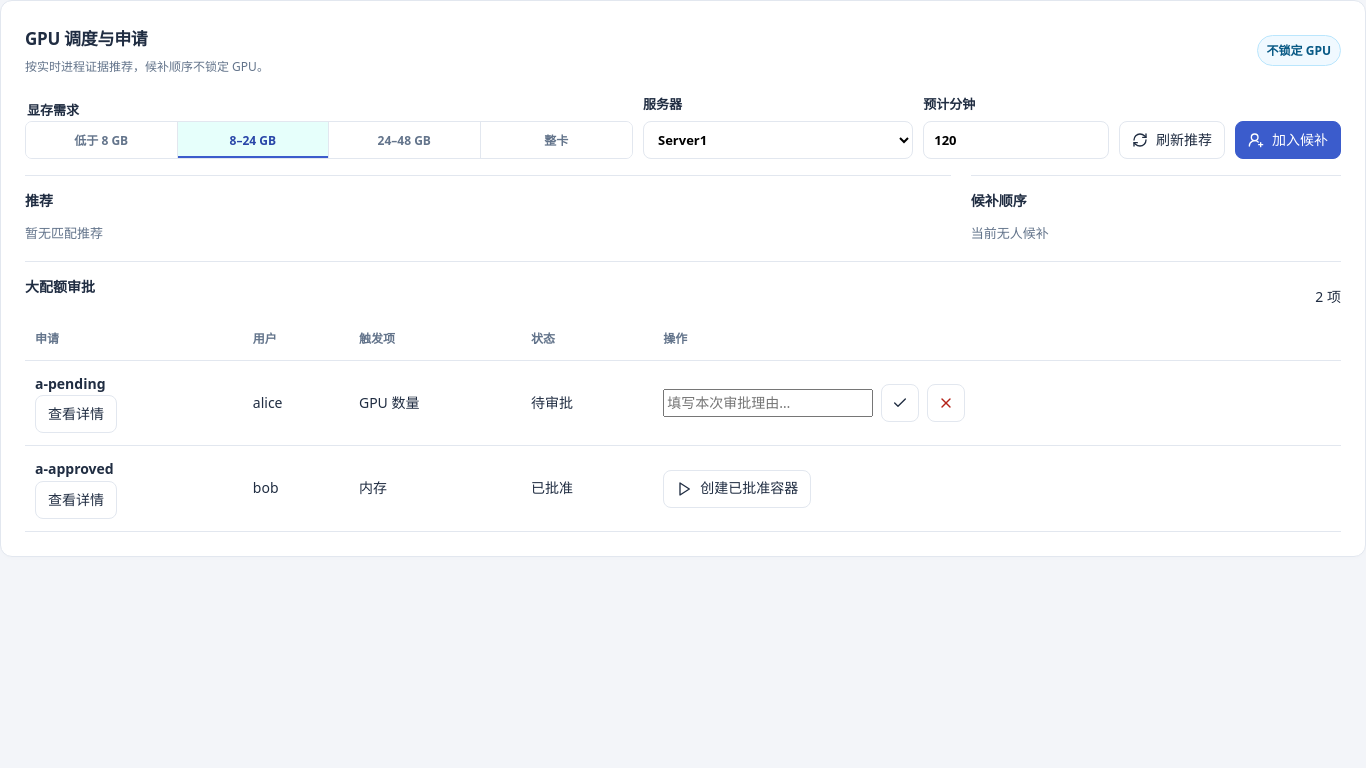
Test: admin can decide and execute approvals using only the approval id
The width and height of the screenshot is (1366, 768).
Type "资源充足" into the field named "审批理由 a-pending" at {"x": 768, "y": 403}, box [663,389,873,417]
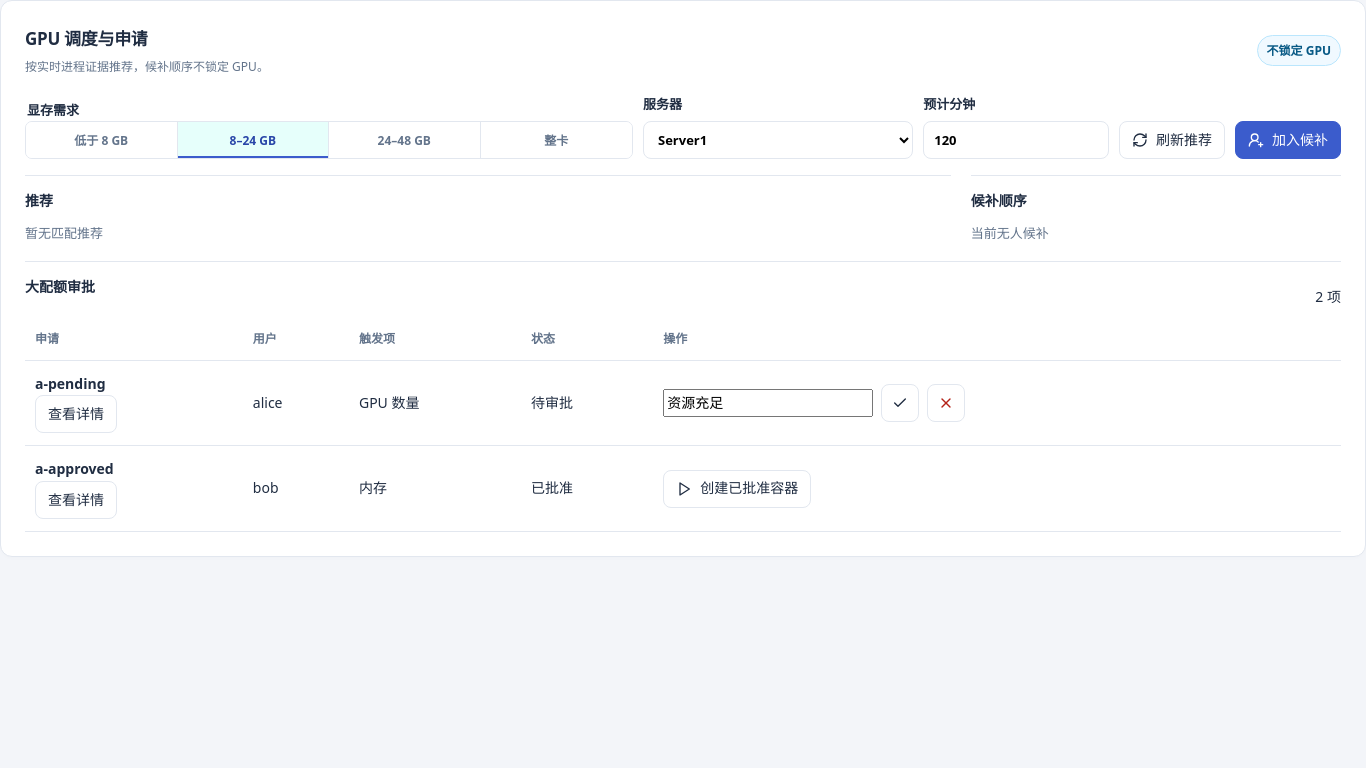
Click the button named "批准申请 a-pending" at {"x": 900, "y": 403}, box [881,384,919,422]
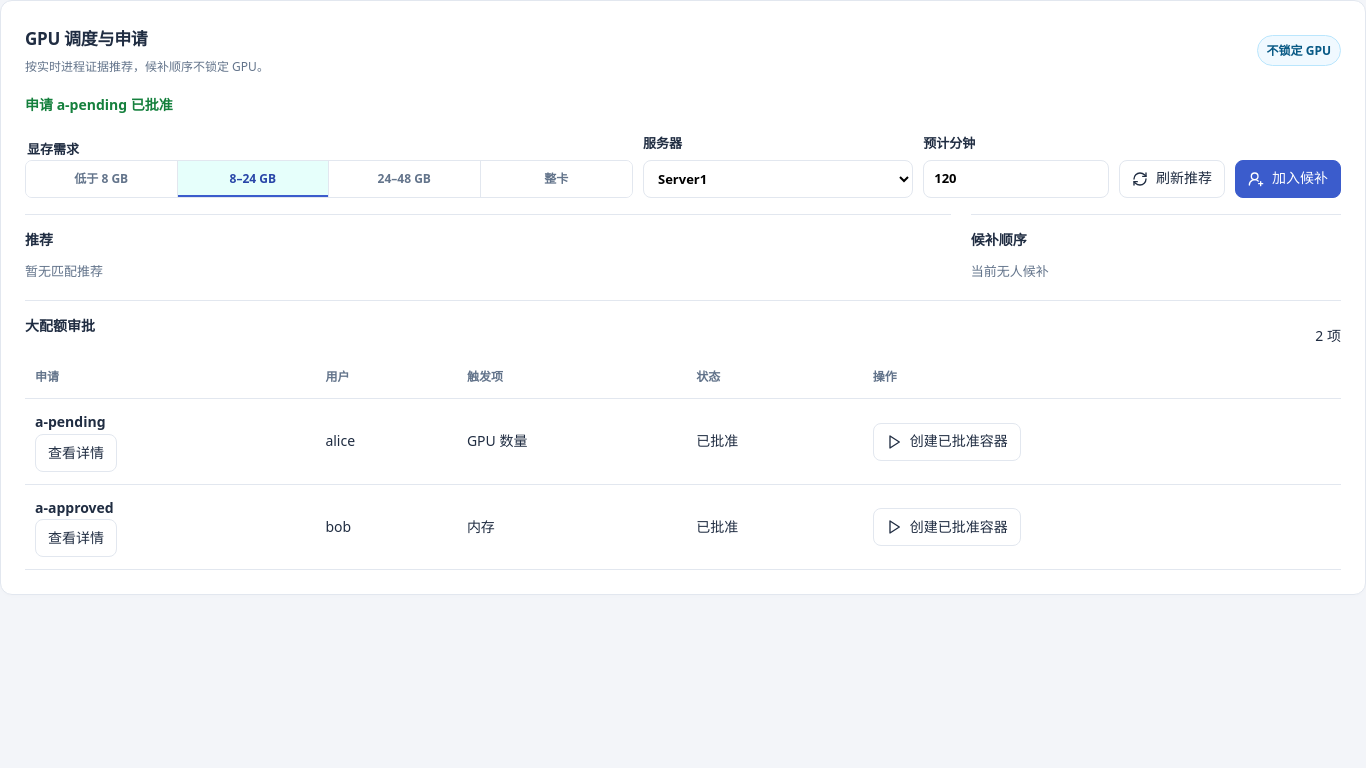
Now the text "申请 a-pending 已批准" is shown, box [25,95,173,114]
Click the button with aria-label "创建已批准容器 a-approved" at {"x": 947, "y": 527}, box [873,508,1021,546]
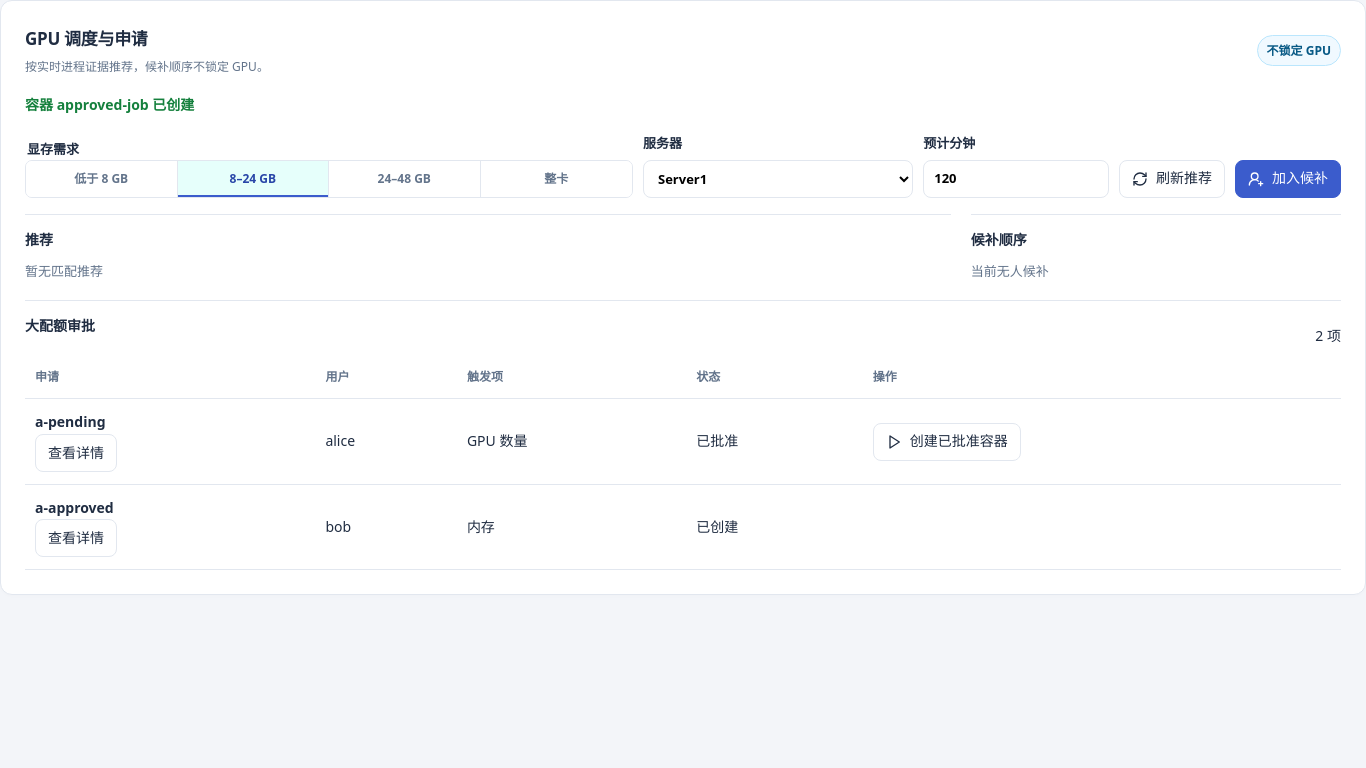
Now the text "容器 approved-job 已创建" is shown, box [25,95,194,114]
